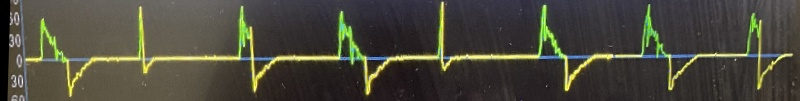hydrop_flow: (12, 0, 800, 101)
